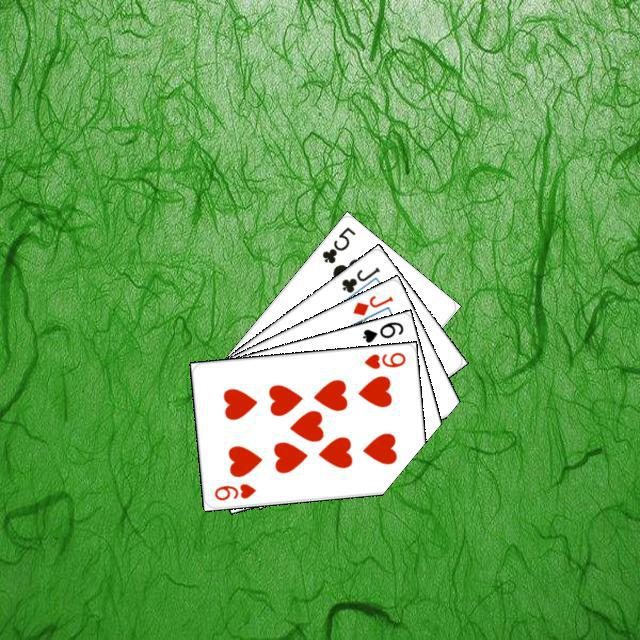5c: (317, 222, 357, 265)
6s: (358, 317, 405, 344)
9h: (209, 478, 258, 502), (359, 347, 407, 371)
Jc: (337, 262, 382, 295)
Jd: (347, 290, 395, 318)
